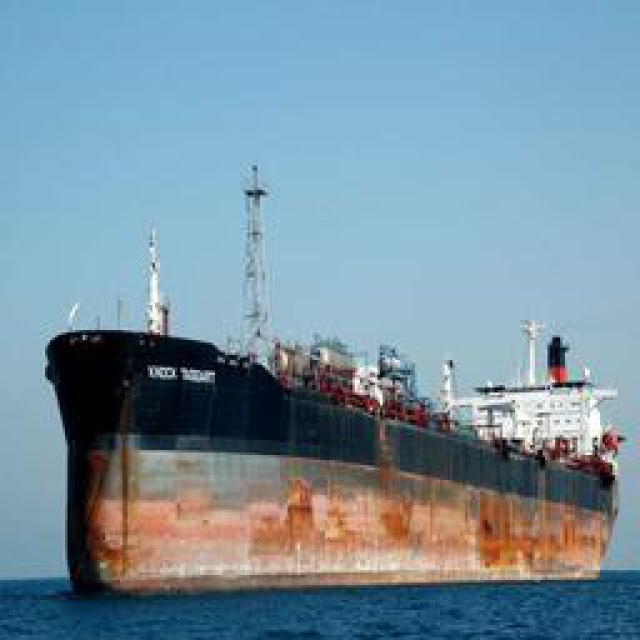Ship: (39, 316, 622, 596)
